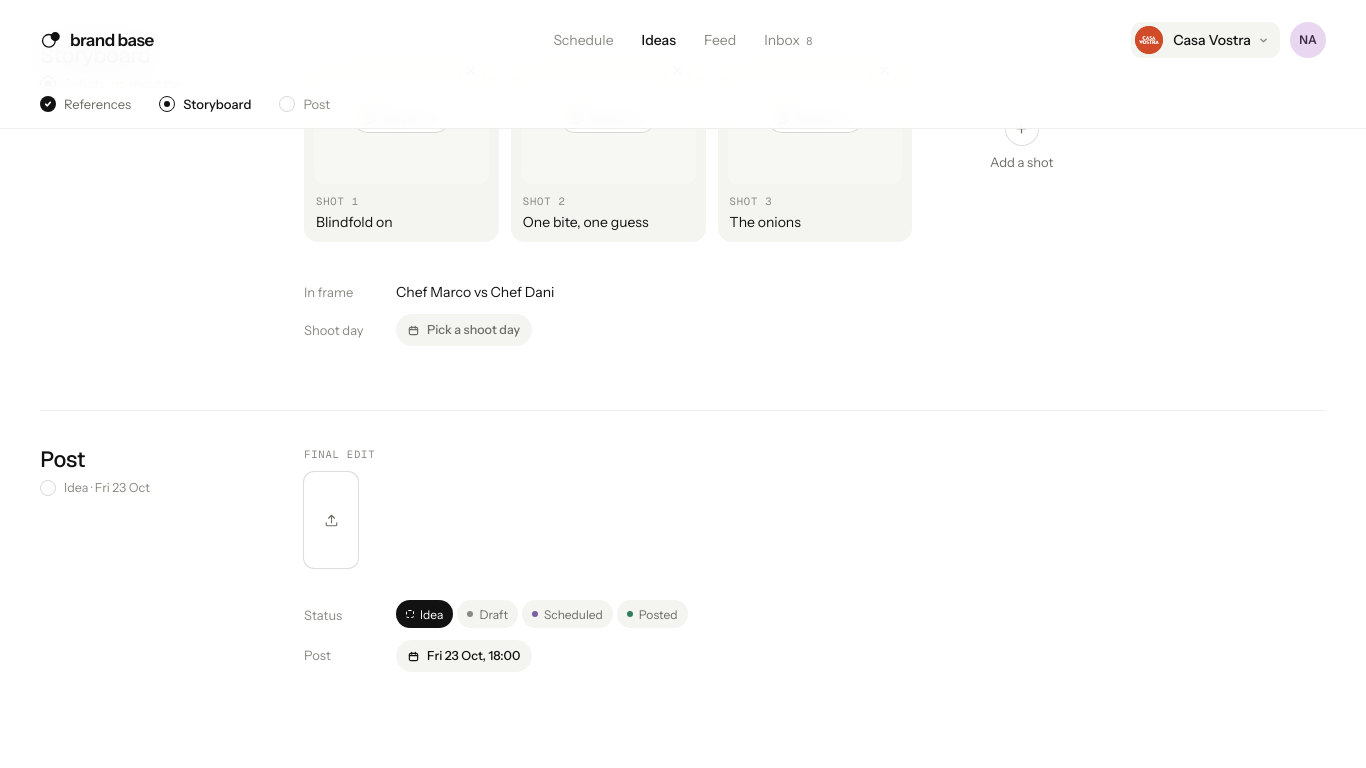
an idea page › shows the idea in three stages, with a rail, and a way back to Current ideas
(page scrolled)
Check: the link "Storyboard" is shown, box [159, 95, 251, 113]
Check: the element "Storyboard" is shown, box [40, 6, 1326, 346]
Click the radio button labelled "Draft" at (488, 614), box [458, 600, 518, 628]
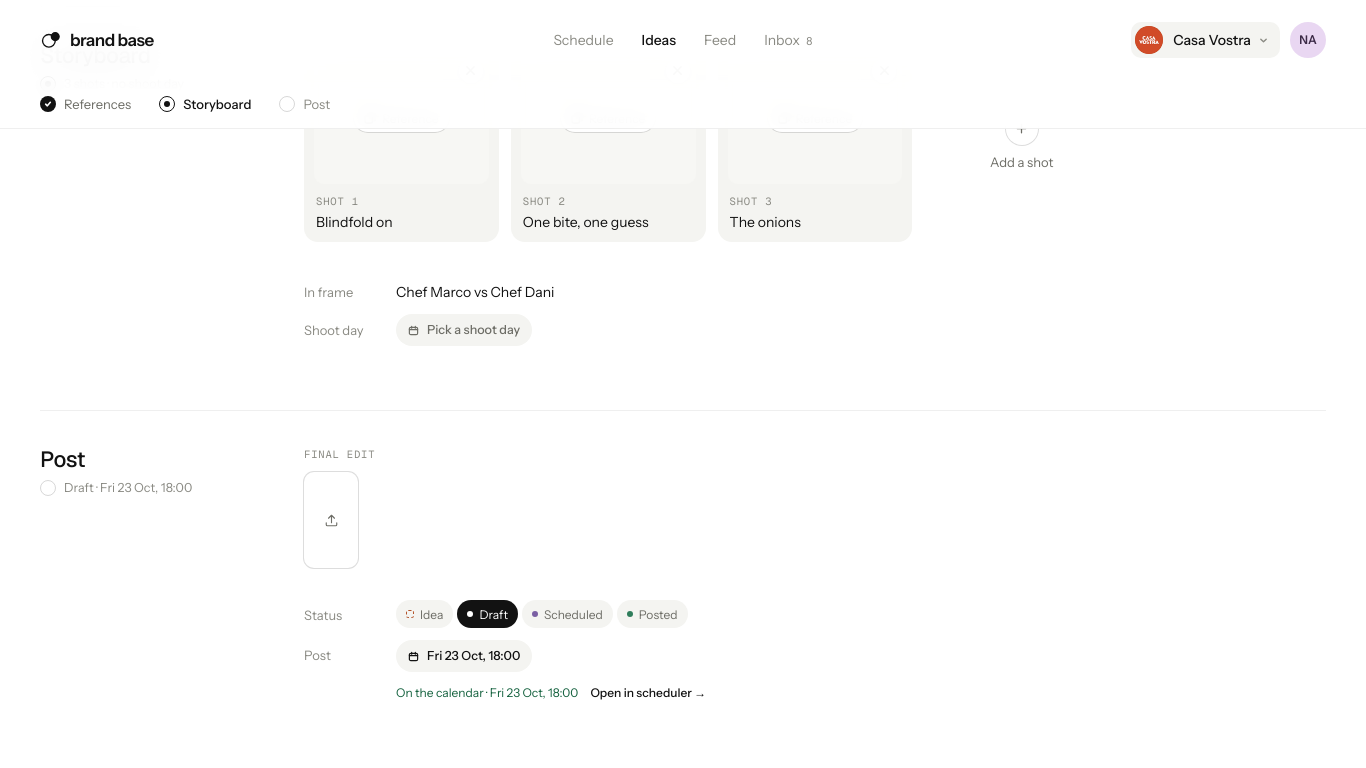
Check: the radio button labelled "Draft" is checked, box [458, 600, 518, 628]
Check: the link "On the calendar · Fri 23 Oct, 18:00" is shown, box [396, 684, 578, 702]
Note: Idea takes the post back to a plan: no post on the calendar, the idea checked again.
Click the radio button labelled "Idea" at (425, 614), box [396, 600, 454, 628]
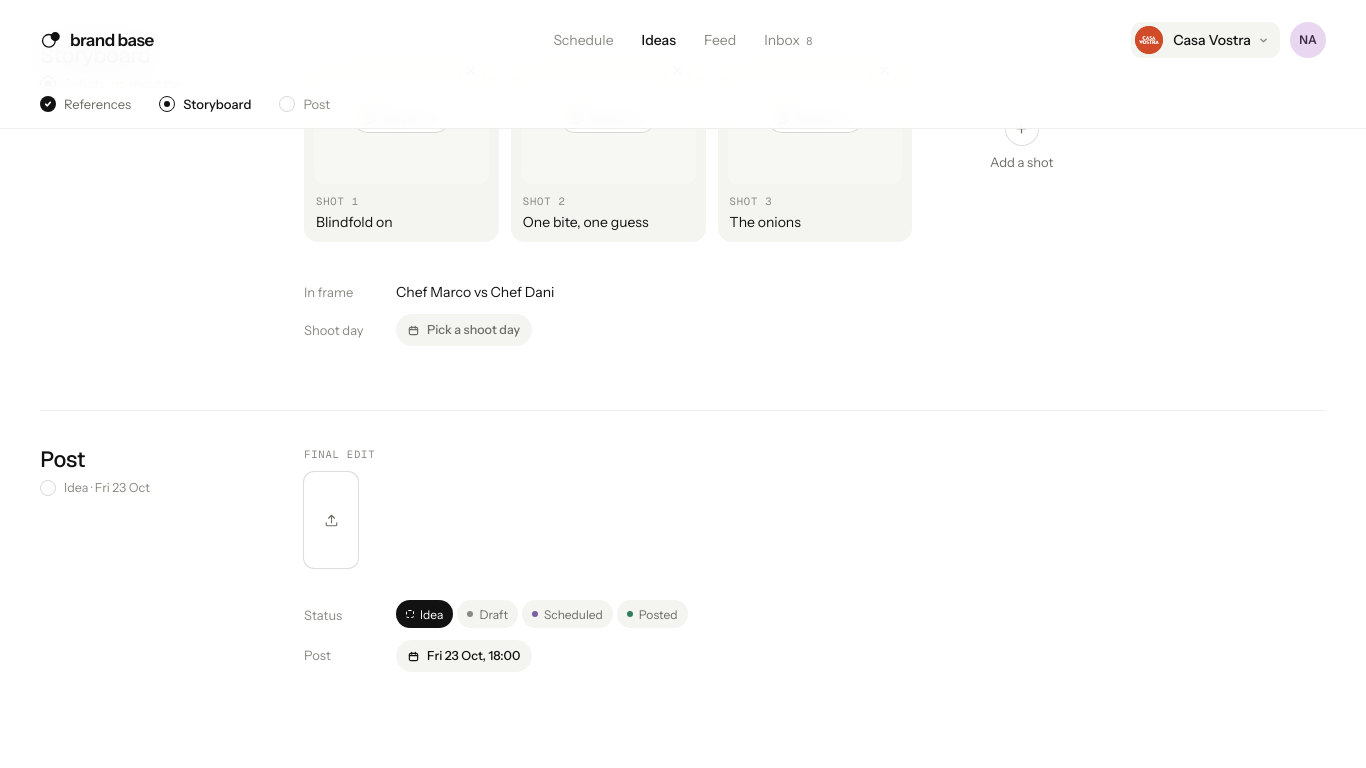
Check: the button with aria-label "Post date" shows "Fri 23 Oct", box [396, 640, 532, 672]
Check: the radio button labelled "Idea" is checked, box [396, 600, 454, 628]
Check: the link "On the calendar" is gone
